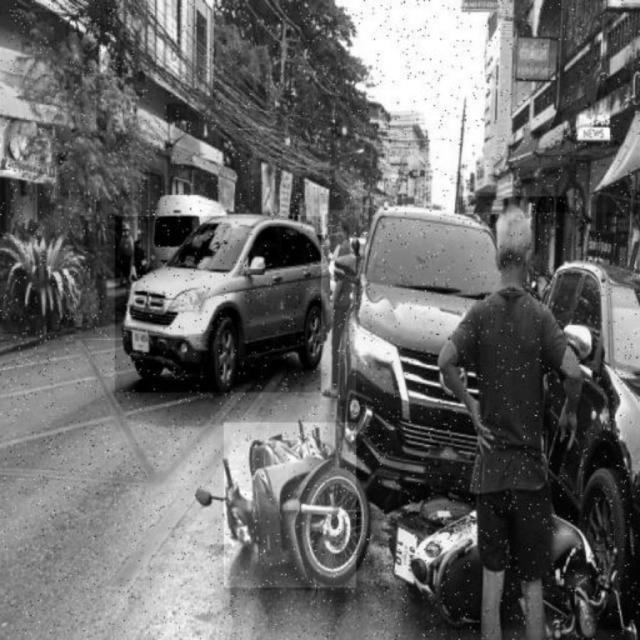accident: (356, 212, 640, 630)
person: (461, 197, 569, 627), (321, 211, 356, 401)
vehicle: (116, 217, 323, 393), (224, 423, 378, 588)
